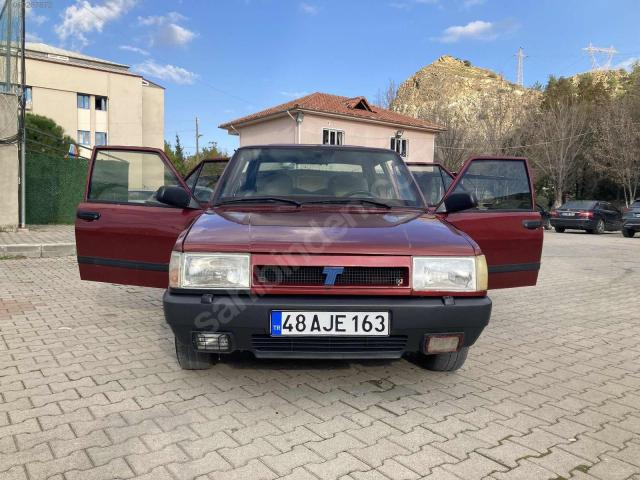plaka: (270, 310, 390, 336)
